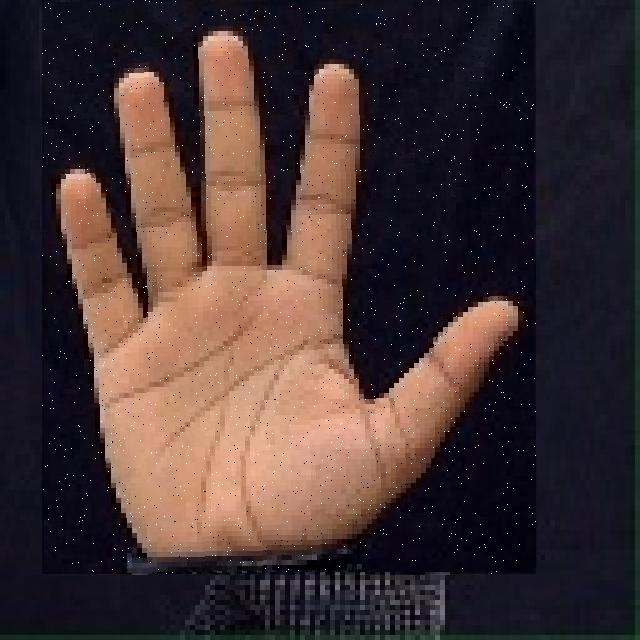Yes: (42, 0, 536, 574)
